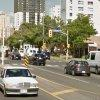Car: (61, 53, 91, 79)
